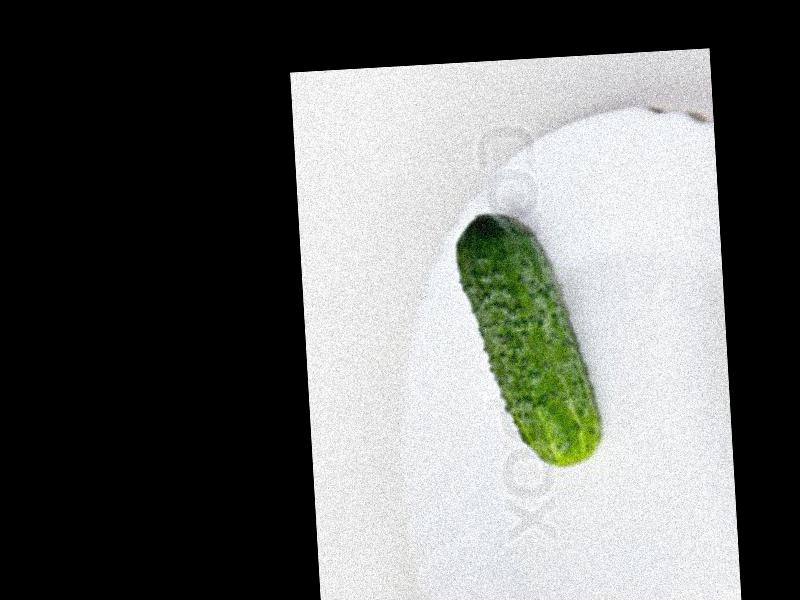Cucumber: (454, 211, 604, 470)
